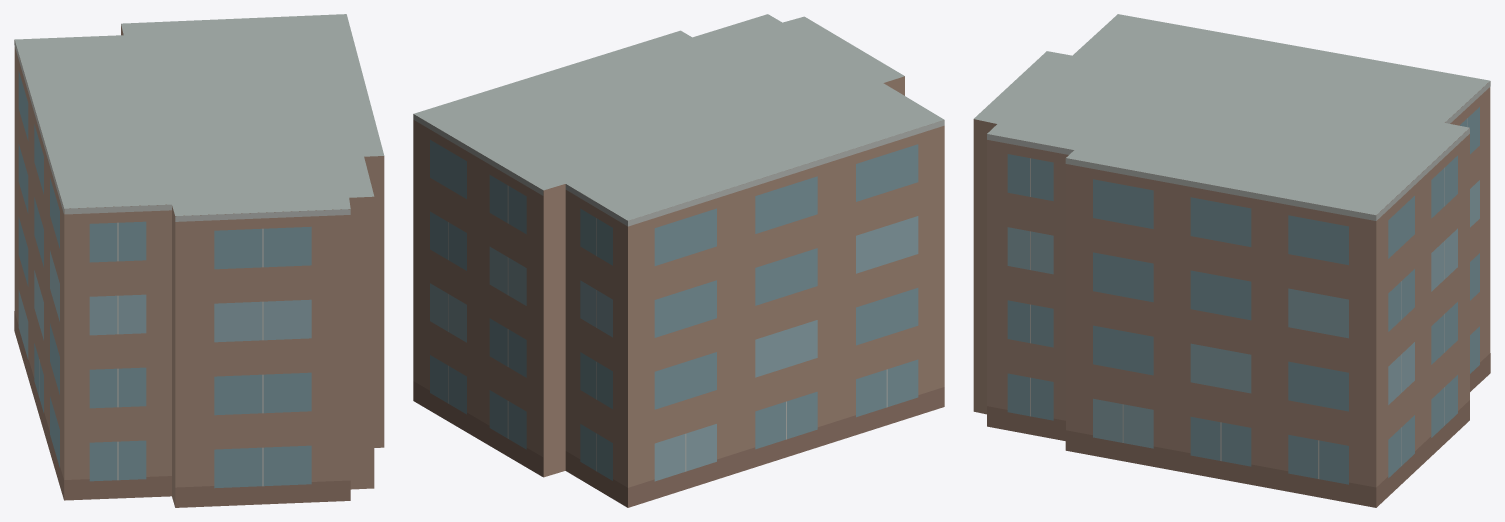
File: survey-upis-33002296.glb
3 views of the same model, side by side, from view 1: azimuth 30°, elevation 25°; view 2: azimuth 150°, elevation 25°; view 3: azimuth 270°, elevation 25° (orthographic).
Visible parts, largest first — view 1: survey-upis-33002296.tmp; view 2: survey-upis-33002296.tmp; view 3: survey-upis-33002296.tmp.
Part boxes in pixels (x1,y1,x2,y2): survey-upis-33002296.tmp: (14, 14, 384, 507); survey-upis-33002296.tmp: (413, 14, 944, 507); survey-upis-33002296.tmp: (973, 14, 1490, 507).
Bounding box in the file's own units: 18.01 × 12.2 × 19.55.
